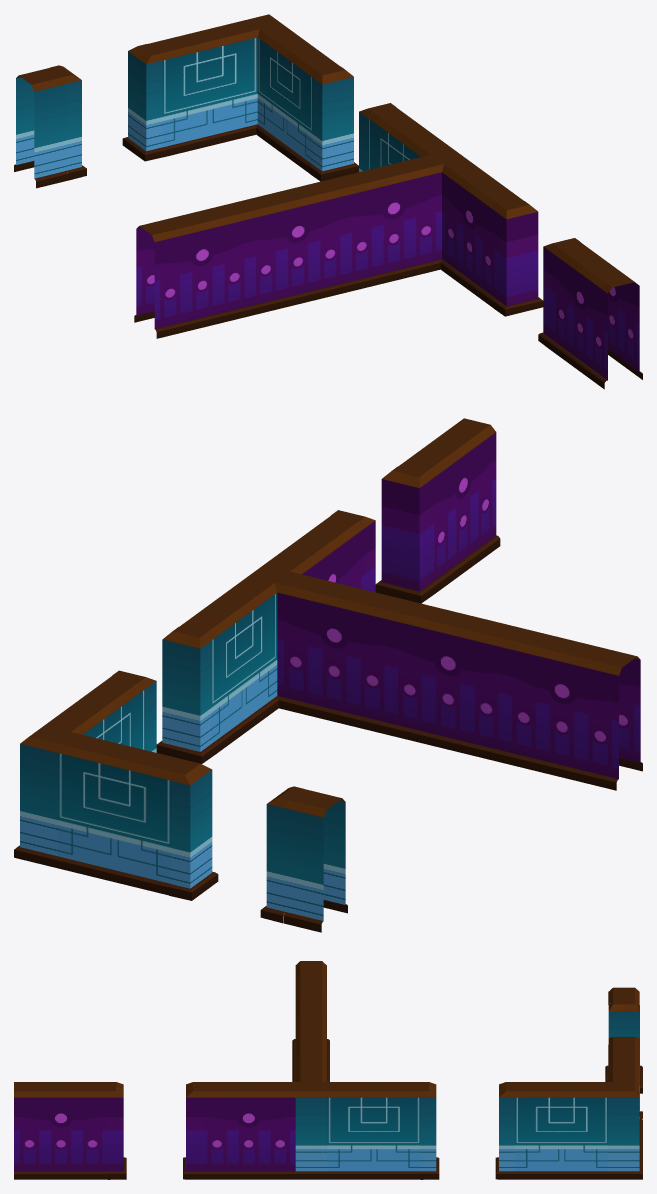
The model's file is Wall_Bedroom_Kitchen_v1.fbx.
3 views of the same model, one above another, from view 1: azimuth 30°, elevation 25°; view 2: azimuth 150°, elevation 25°; view 3: azimuth 270°, elevation 25° (orthographic). The views are drawn at different scales.
Parts seen in each view (by area): view 1: Bedroom_Kitchen; view 2: Bedroom_Kitchen; view 3: Bedroom_Kitchen.
Part boxes in pixels (x1,y1,x2,y2): Bedroom_Kitchen: [14, 14, 642, 389]; Bedroom_Kitchen: [14, 418, 642, 932]; Bedroom_Kitchen: [14, 961, 642, 1179].
Size of the model in its own units: 1010 by 300 by 2010.
